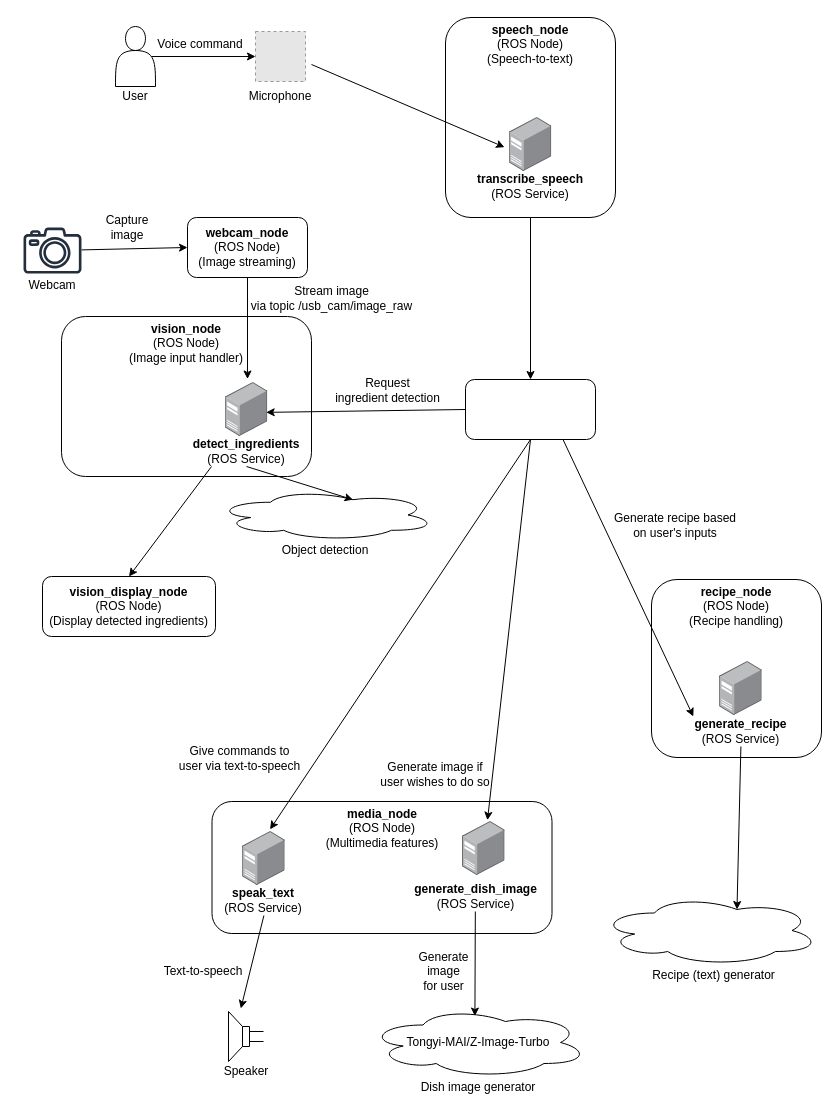
Some shapes in this 839 by 1115 pixel diagram are drawn without their labels. Grey dashed boxes stand in for pictures. Each missing label, with the centre of its shape:
Gemini 3.1 Flash Lite: the point at 709,930
interaction_manager (ROS Node) (State transition): the point at 530,409
OpenAI GPT 5.4: the point at 325,514
